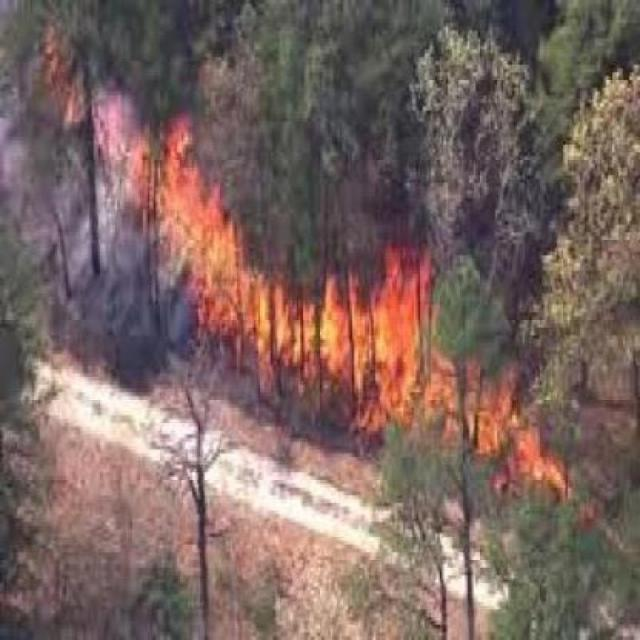Fire: (248, 256, 426, 430), (45, 0, 164, 206), (433, 341, 573, 491), (174, 124, 246, 353)
